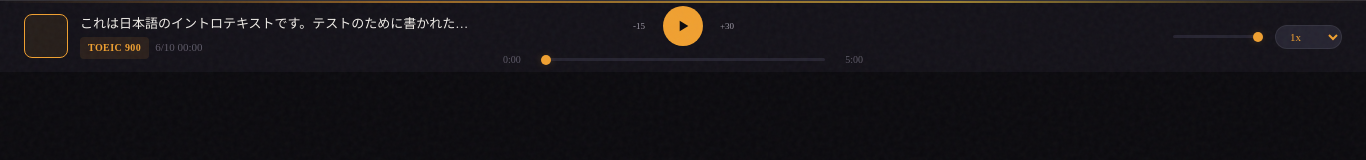
Test: Play / Pause › Given play button clicked, toggles to pause state
Step 1. Click the button named "再生" → click(683, 26), box top-left (663, 6), bottom-right (703, 46)
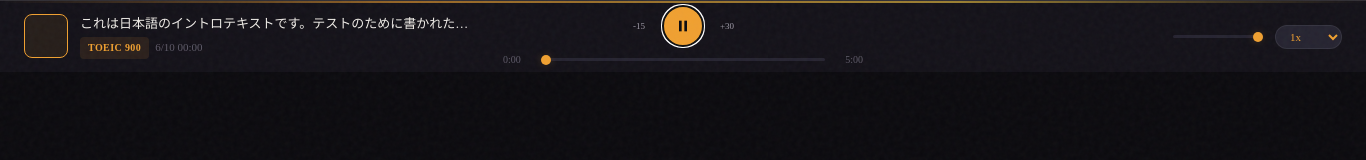
Result: the button named "一時停止" is shown at top-left (663, 6), bottom-right (703, 46)
